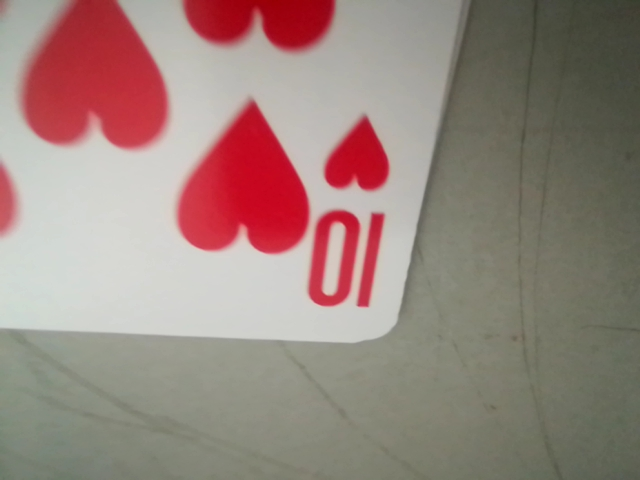hx 10: (301, 110, 399, 319)
